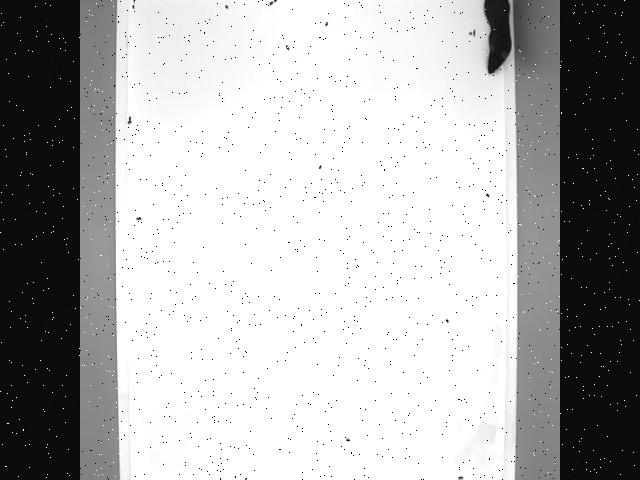Tikus: (435, 0, 512, 82)
